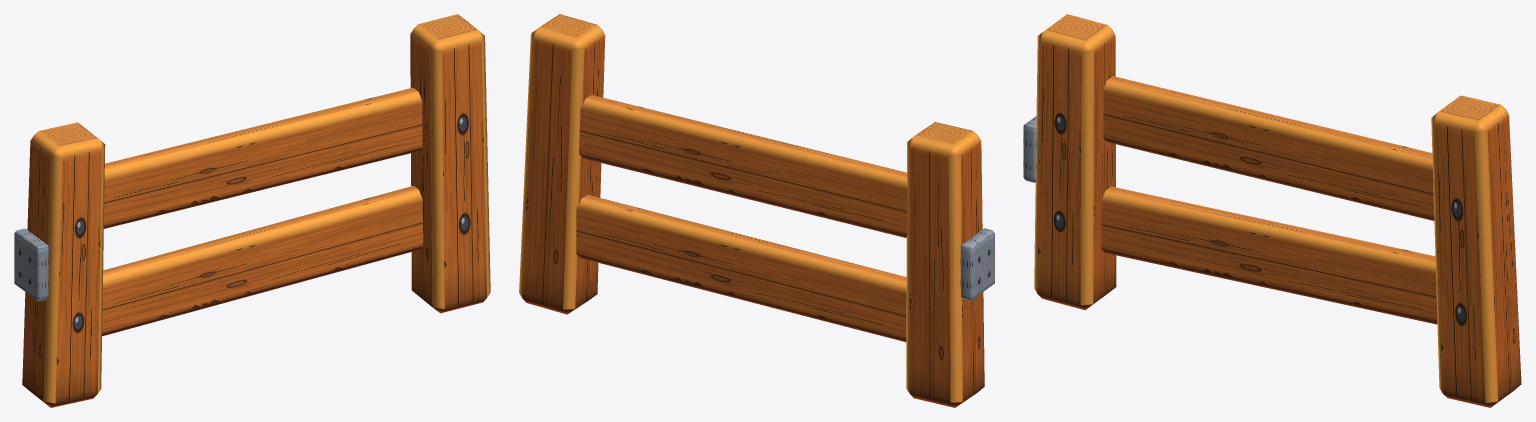
File: Fence_Straight1.fbx
The picture shows the model from 3 angles, left to right: view 1: azimuth 30°, elevation 25°; view 2: azimuth 150°, elevation 25°; view 3: azimuth 330°, elevation 25°; orthographic projection. The views are drawn at different scales.
Visible parts, largest first — view 1: Fence_Straight1_Body; view 2: Fence_Straight1_Body; view 3: Fence_Straight1_Body.
Boxes of the visible parts, x1,y1,x2,y2 form: Fence_Straight1_Body: (14,14,490,407); Fence_Straight1_Body: (519,14,994,407); Fence_Straight1_Body: (1023,14,1521,407).
Bounding box in the file's own units: 2.07 × 1.2 × 0.2629.
Materials: 1 (1 with a texture image).
